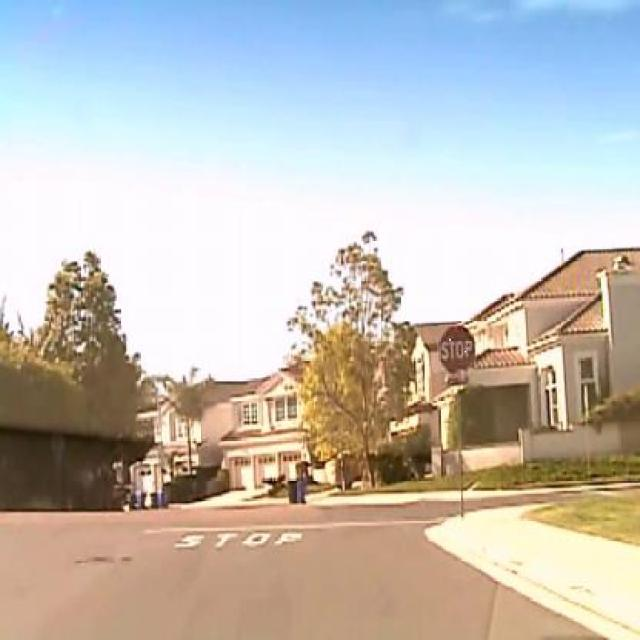stop: (438, 326, 476, 379)
